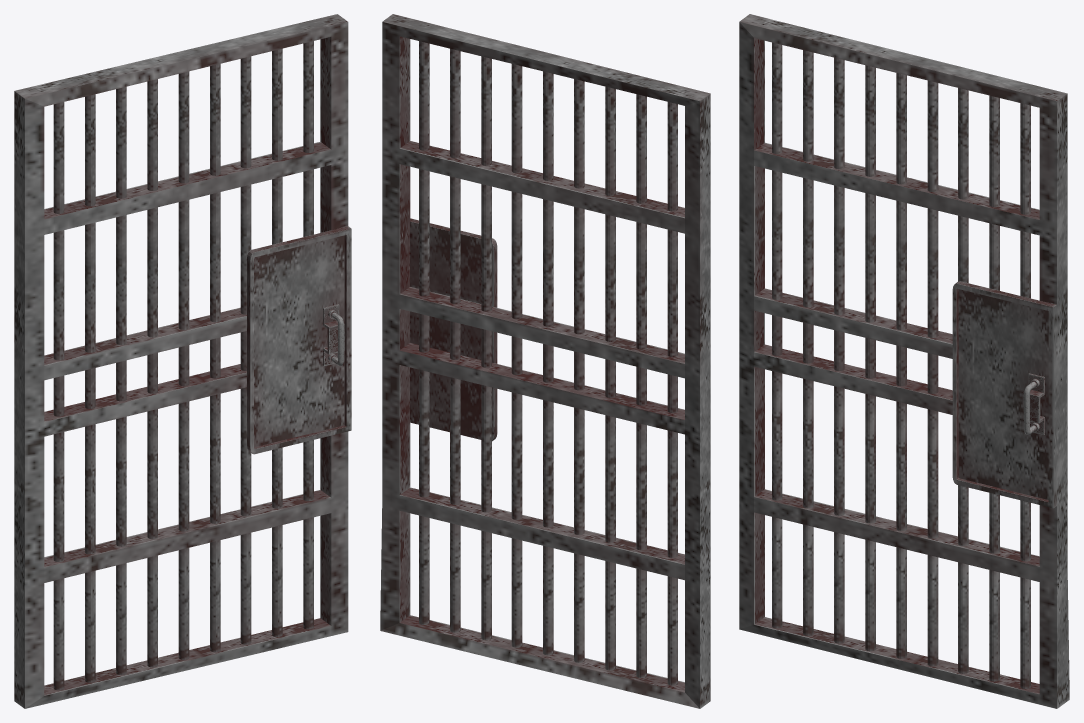
File: cell door.fbx
3 renders of one model, left to right at view 1: azimuth 30°, elevation 25°; view 2: azimuth 150°, elevation 25°; view 3: azimuth 330°, elevation 25°, orthographic.
Visible parts, largest first — view 1: Cube.002; view 2: Cube.002; view 3: Cube.002.
Boxes of the visible parts, x1,y1,x2,y2 form: Cube.002: (14,14,351,708); Cube.002: (380,14,710,708); Cube.002: (739,14,1069,708).
Bounding box in the file's own units: 117 × 212 × 16.17.
